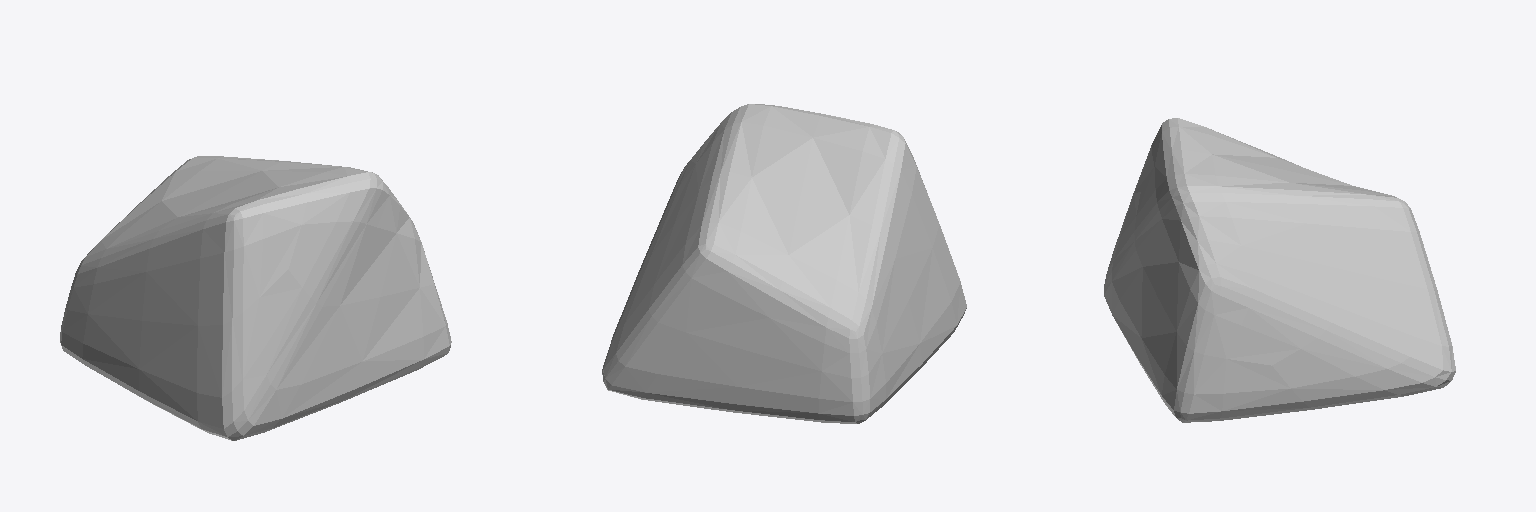
File: rock-tree3-03.obj
3 views of the same model, side by side, from view 1: azimuth 30°, elevation 25°; view 2: azimuth 150°, elevation 25°; view 3: azimuth 270°, elevation 25° (orthographic).
Visible parts, largest first — view 1: rock_tree3_03 Rocks; view 2: rock_tree3_03 Rocks; view 3: rock_tree3_03 Rocks.
Part boxes in pixels (x1,y1,x2,y2): rock_tree3_03 Rocks: (60, 156, 451, 440); rock_tree3_03 Rocks: (602, 104, 966, 423); rock_tree3_03 Rocks: (1104, 118, 1455, 422).
Bounding box in the file's own units: 0.3095 × 0.2094 × 0.3188.